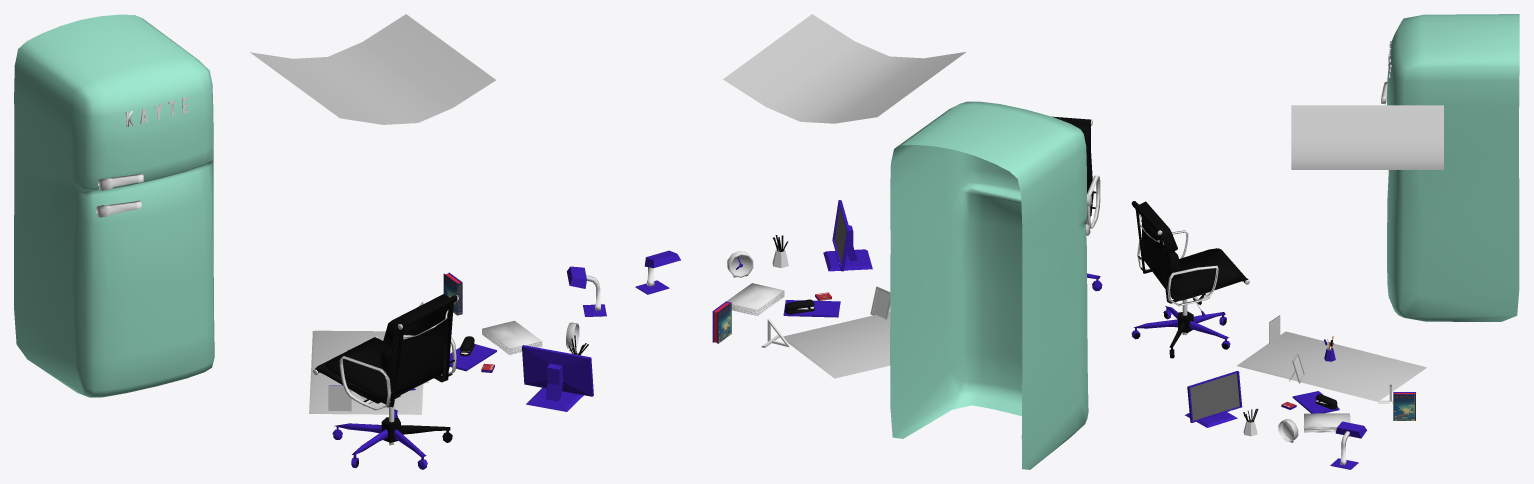
Rendered from CleanPrefabs1stBatch.fbx.
3 views of the same model, side by side, from view 1: azimuth 30°, elevation 25°; view 2: azimuth 150°, elevation 25°; view 3: azimuth 270°, elevation 25° (orthographic). The views are drawn at different scales.
Visible parts, largest first — view 1: SmegFridgeLowClean2, TerraceLightsClean, OfficeChair (LP)Clean1, PCClean1, DoormatClean, PaperClean, TableLampClean1, LaptopClean1; view 2: SmegFridgeLowClean2, TerraceLightsClean, DoormatClean, PCClean1, OfficeChair (LP)Clean1, PaperClean, TableLampClean1, BookClean, LaptopClean1, ClockClean1, PhotoHolderClean1; view 3: SmegFridgeLowClean2, TerraceLightsClean, OfficeChair (LP)Clean1, DoormatClean, PCClean1, PaperClean, TableLampClean1, BookClean, LaptopClean1.
Part boxes in pixels (<box>): SmegFridgeLowClean2: <box>14,14,214,397</box>; TerraceLightsClean: <box>250,14,495,124</box>; OfficeChair (LP)Clean1: <box>313,294,458,469</box>; PCClean1: <box>522,345,593,411</box>; DoormatClean: <box>309,330,423,414</box>; PaperClean: <box>482,320,542,354</box>; TableLampClean1: <box>567,266,606,316</box>; LaptopClean1: <box>449,344,496,371</box>; SmegFridgeLowClean2: <box>890,101,1092,469</box>; TerraceLightsClean: <box>723,14,965,123</box>; DoormatClean: <box>783,311,890,378</box>; PCClean1: <box>823,200,872,271</box>; OfficeChair (LP)Clean1: <box>1052,116,1102,291</box>; PaperClean: <box>726,283,784,315</box>; TableLampClean1: <box>635,250,680,294</box>; BookClean: <box>712,301,731,343</box>; LaptopClean1: <box>783,300,840,317</box>; ClockClean1: <box>727,251,753,277</box>; PhotoHolderClean1: <box>870,286,890,319</box>; SmegFridgeLowClean2: <box>1381,14,1519,321</box>; TerraceLightsClean: <box>1291,105,1443,169</box>; OfficeChair (LP)Clean1: <box>1131,201,1249,358</box>; DoormatClean: <box>1237,331,1426,401</box>; PCClean1: <box>1185,371,1242,427</box>; PaperClean: <box>1303,413,1350,432</box>; TableLampClean1: <box>1330,421,1366,469</box>; BookClean: <box>1393,392,1415,420</box>; LaptopClean1: <box>1292,391,1339,413</box>.
Bounding box in the file's own units: 627 × 388 × 509.
